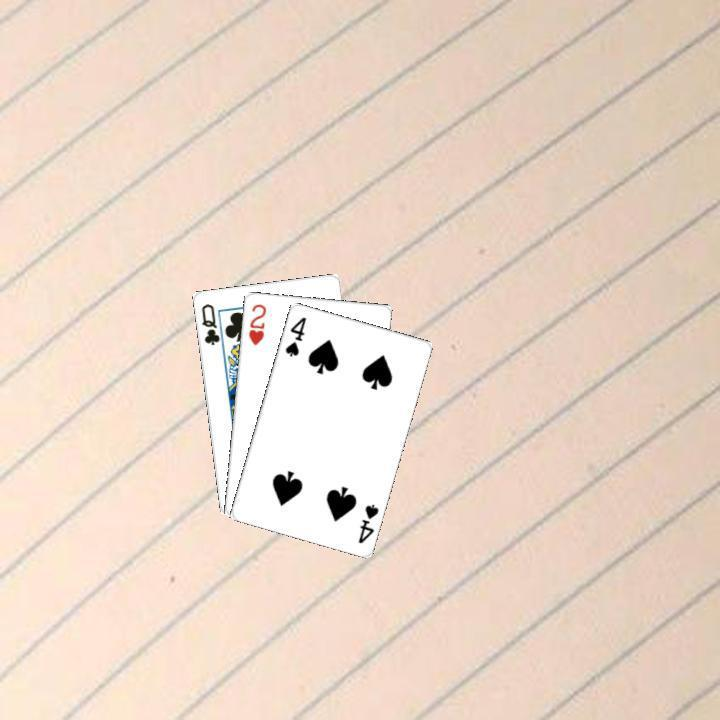2: (244, 299, 268, 347)
4: (280, 312, 308, 358), (353, 499, 380, 545)
Q: (197, 299, 221, 347)
